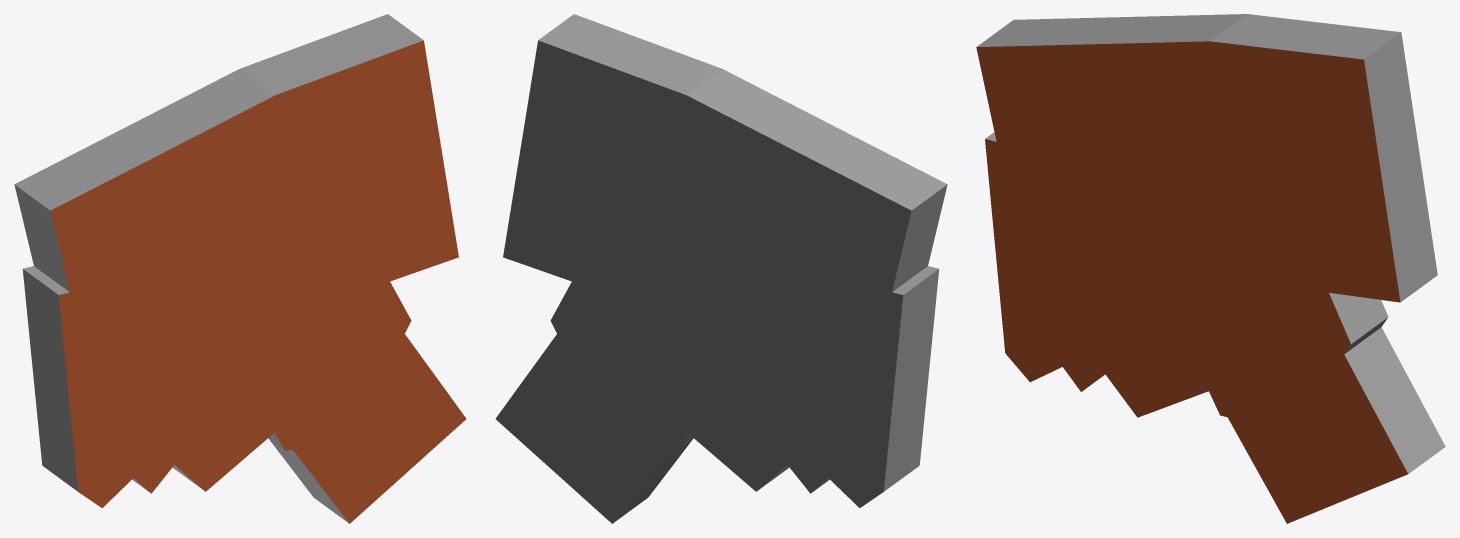
The model's file is construction_5670_assumed_A_Casa_h6m.obj.
The picture shows the model from 3 angles, left to right: view 1: azimuth 30°, elevation 25°; view 2: azimuth 150°, elevation 25°; view 3: azimuth 330°, elevation 25°; orthographic projection. The views are drawn at different scales.
Parts seen in each view (by area): view 1: construction_5670_assumed_A_Casa; view 2: construction_5670_assumed_A_Casa; view 3: construction_5670_assumed_A_Casa.
Boxes of the visible parts, left/top/right/bottom form: construction_5670_assumed_A_Casa: left=14, top=14, right=466, bottom=523; construction_5670_assumed_A_Casa: left=495, top=14, right=947, bottom=523; construction_5670_assumed_A_Casa: left=976, top=14, right=1445, bottom=523.
Size of the model in its own units: 40.06 by 42.8 by 6.
